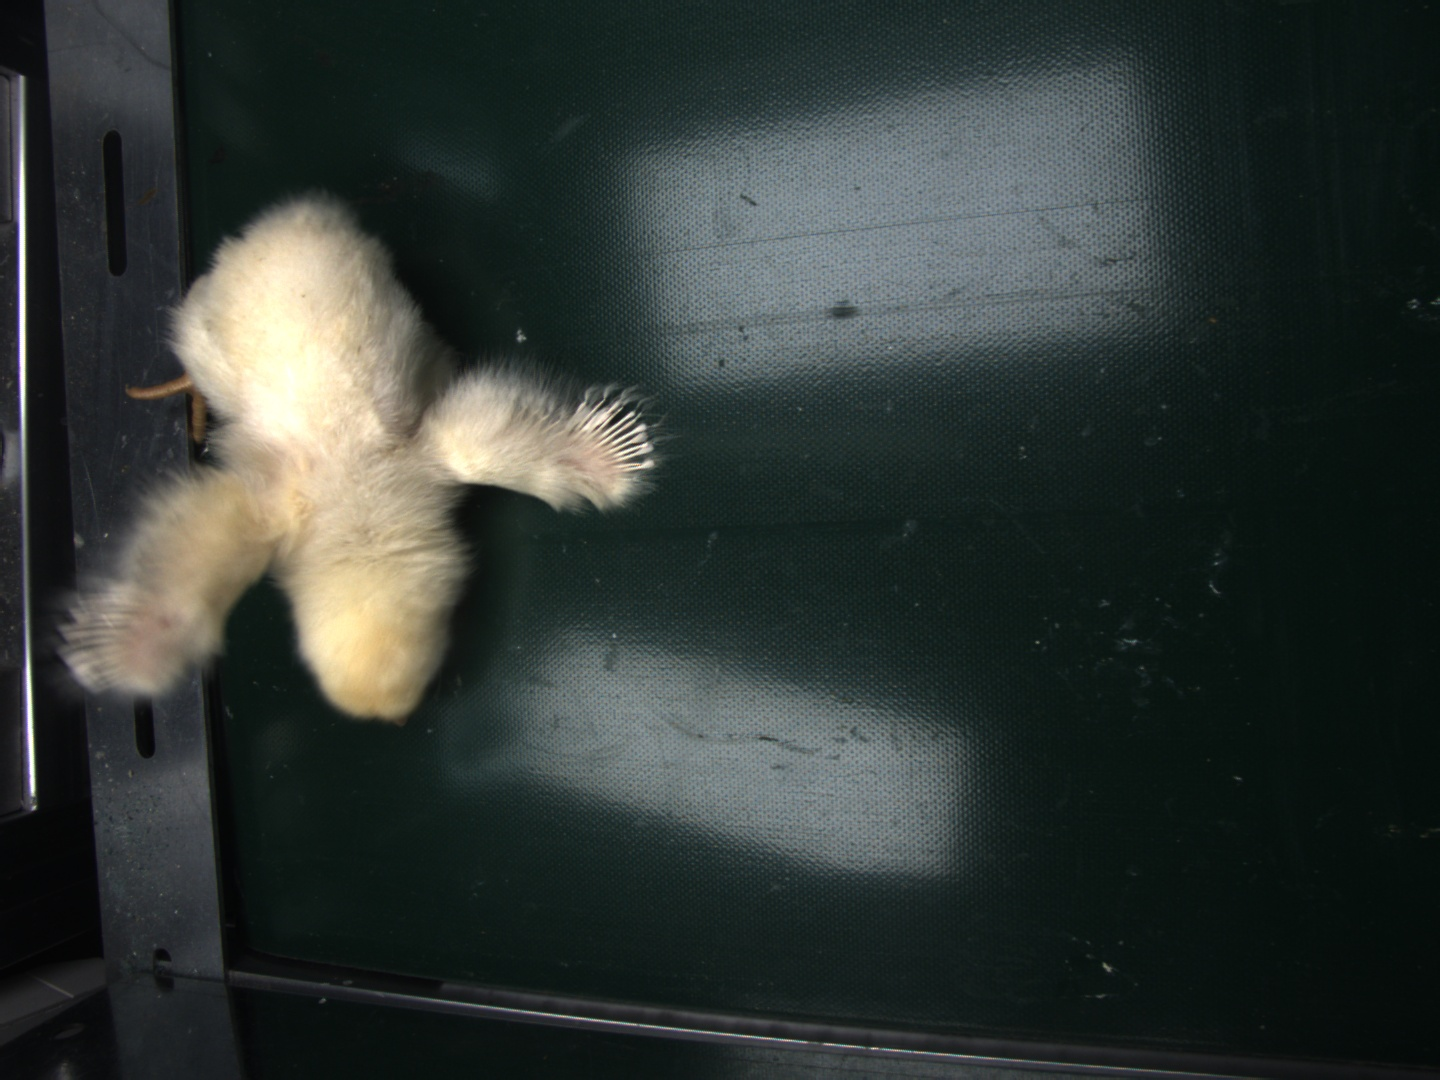male: (573, 395, 657, 479)
